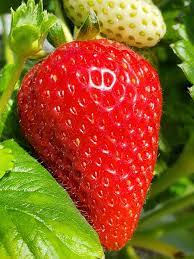ripe: (12, 40, 167, 252)
unripe: (59, 0, 179, 51)
